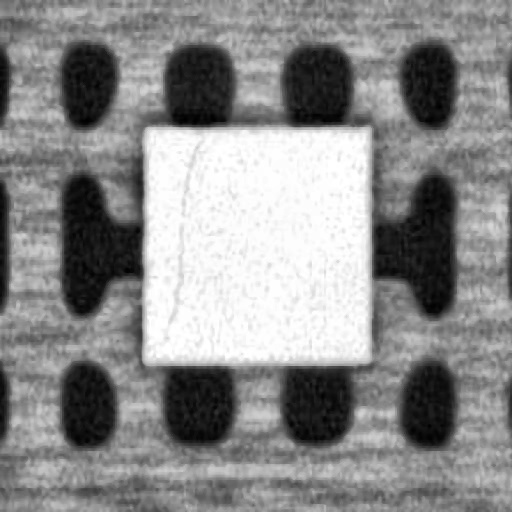DIE_CRACK: (152, 138, 200, 342)
